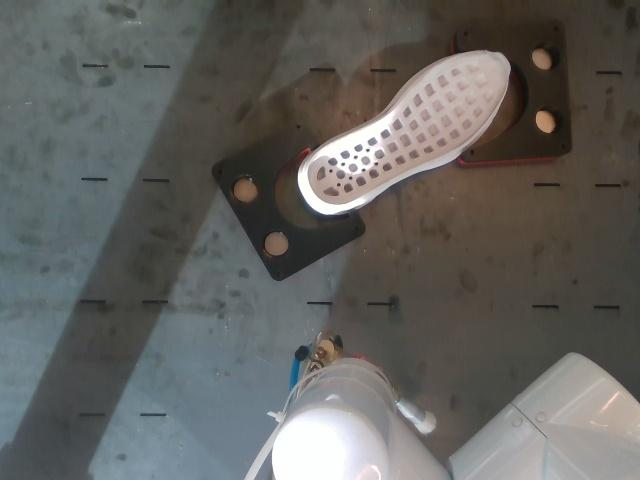shoes: (307, 52, 510, 204)
